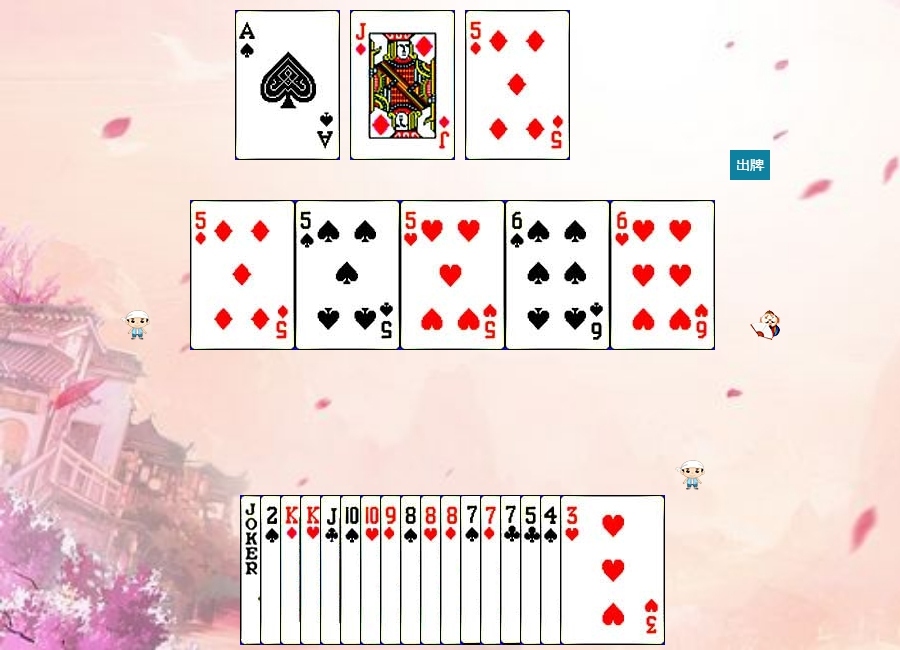10~3: (360, 495, 465, 645)
10~4: (340, 495, 445, 645)
11~1: (350, 10, 455, 160)
11~2: (320, 495, 425, 645)
13~1: (280, 495, 385, 645)
13~3: (300, 495, 405, 645)
14~4: (235, 10, 340, 160)
15~4: (260, 495, 365, 645)
17~3: (240, 495, 345, 645)
3~3: (560, 495, 665, 645)
4~4: (540, 495, 645, 645)
5~1: (465, 10, 570, 160), (190, 200, 295, 350)
5~2: (520, 495, 625, 645)
5~3: (400, 200, 505, 350)
5~4: (295, 200, 400, 350)
6~3: (610, 200, 715, 350)
6~4: (505, 200, 610, 350)
7~1: (480, 495, 585, 645)
7~2: (500, 495, 605, 645)
7~4: (460, 495, 565, 645)
8~1: (440, 495, 545, 645)
8~3: (420, 495, 525, 645)
8~4: (400, 495, 505, 645)
9~1: (380, 495, 485, 645)
